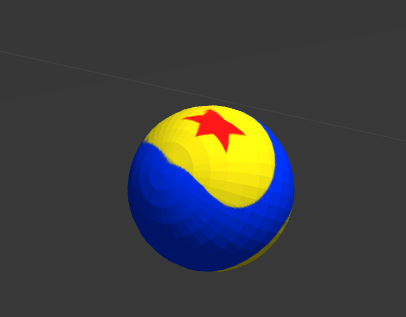toy story ball: (127, 104, 295, 271)
